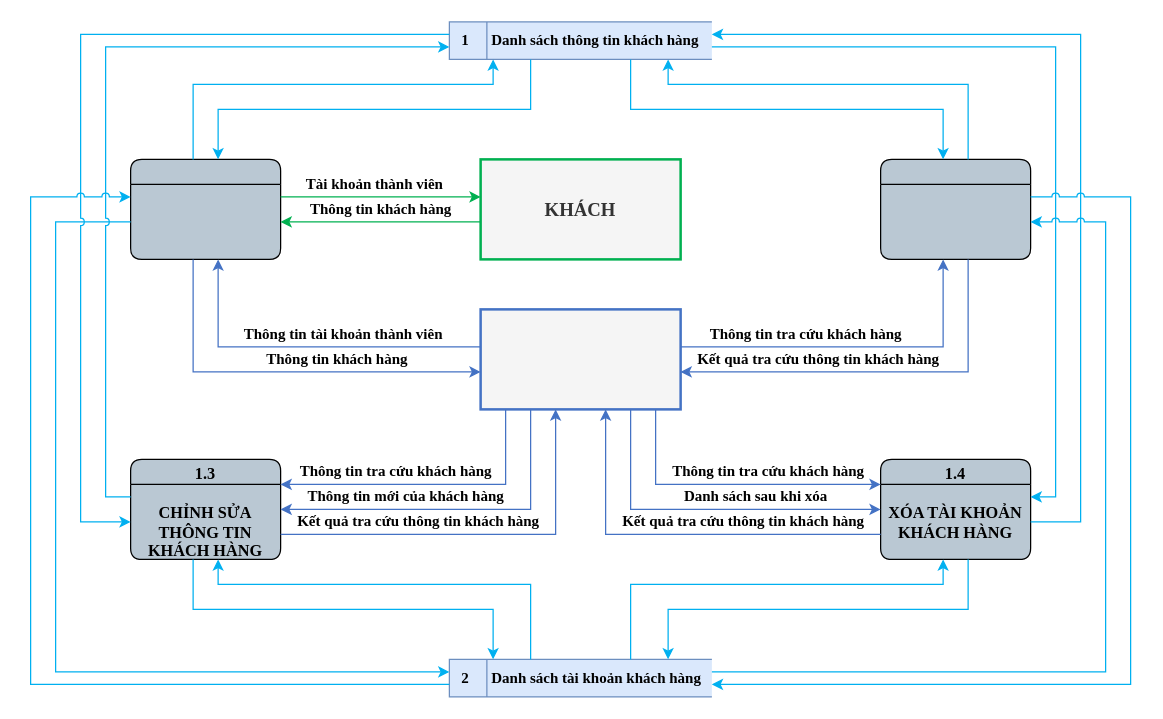
Some shapes in this 1163 by 719 pixel diagram are drawn without their labels. The shapes that lost their labels are listed below. From the top down, each one's centre as x and y in pixels, then its label:
[205,208]: 1.1 THÊM TÀI KHOẢN KHÁCH HÀNG
[955,208]: 1.2 TRA CỨU THÔNG TIN KHÁCH HÀNG
[580,359]: NHÂN VIÊN QUẢN LÝ
